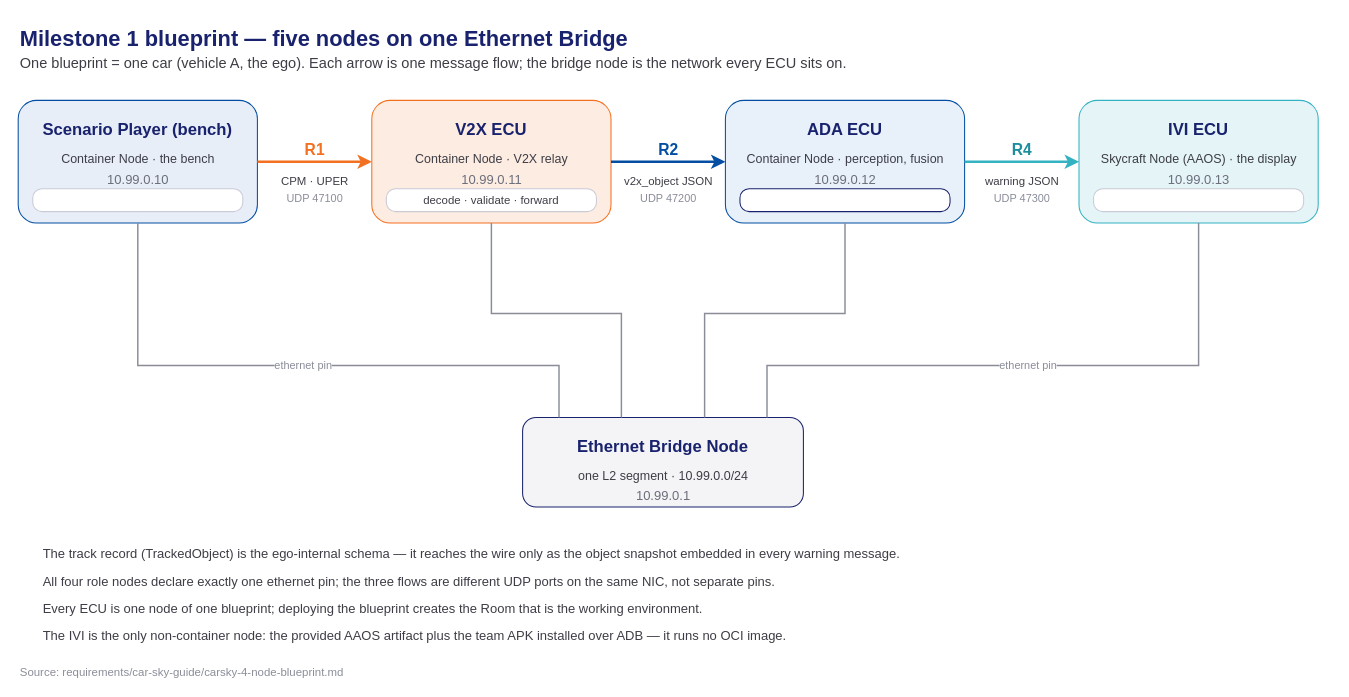
Image size: 1349x697. Some labels were removed from this diagram. Here are the shapes that lost their labels. From the top down, the box of each, then its label:
(32, 188, 243, 212): scenario configs → CPM stream
(739, 188, 950, 212): track store · risk · warning
(1093, 188, 1304, 212): god-view HMI · APK via ADB
